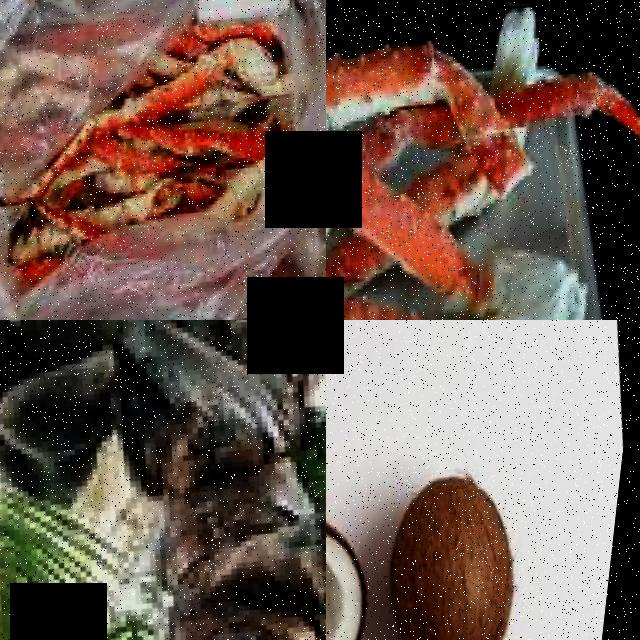coconut: (375, 450, 551, 640), (326, 498, 401, 640)
crab: (326, 0, 640, 320), (43, 13, 298, 241)
